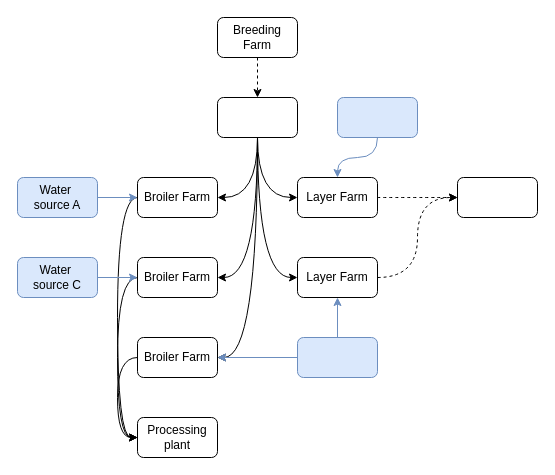
This 555x475 diagram has some shape labels left out. The centre of each missing label's shape, as x and y in pixels:
Egg Market: the point at 497,197
Hatchery: the point at 257,117
Water source B: the point at 377,117
Water source D: the point at 337,357
